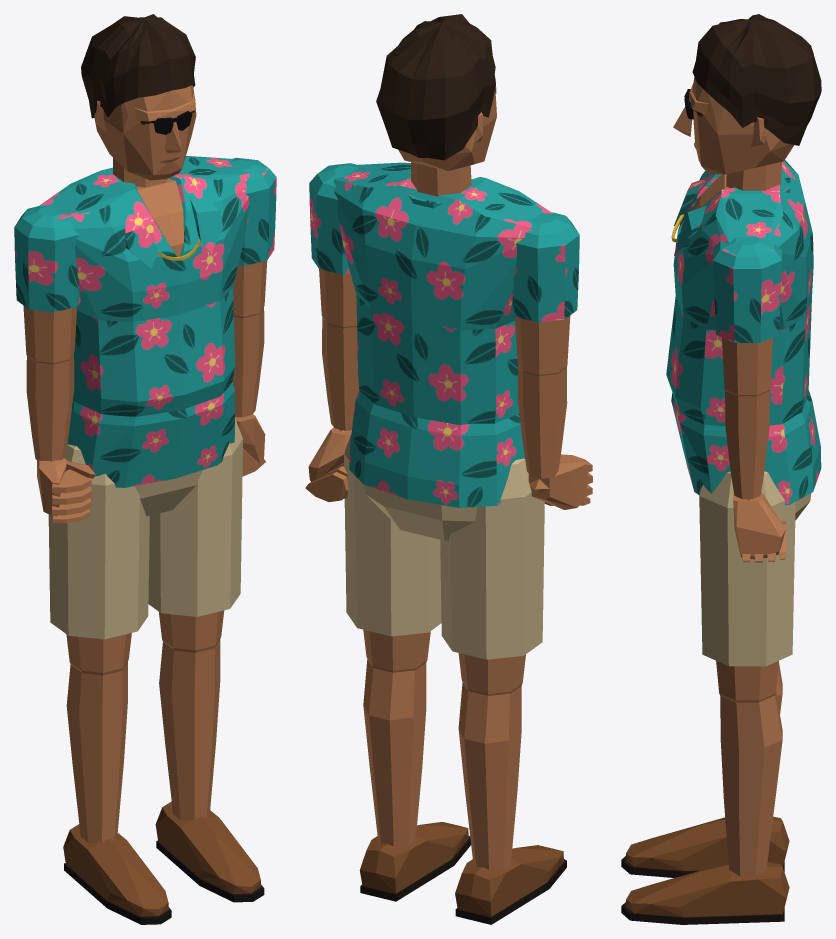
The model's file is kahuna.glb.
3 views of the same model, side by side, from view 1: azimuth 30°, elevation 25°; view 2: azimuth 150°, elevation 25°; view 3: azimuth 270°, elevation 25° (orthographic). The views are drawn at different scales.
Parts seen in each view (by area): view 1: chest_mesh, upperLegR_mesh, spine_mesh, head_mesh, upperLegL_mesh, hips_mesh, lowerLegL_mesh, lowerLegR_mesh, upperArmR_mesh, footR_mesh, footL_mesh, upperArmL_mesh (+5 smaller); view 2: chest_mesh, upperLegR_mesh, hips_mesh, spine_mesh, head_mesh, upperLegL_mesh, lowerLegL_mesh, lowerLegR_mesh, upperArmR_mesh, footR_mesh, footL_mesh, upperArmL_mesh (+5 smaller); view 3: head_mesh, upperLegL_mesh, chest_mesh, upperArmL_mesh, lowerLegL_mesh, spine_mesh, footL_mesh, hips_mesh, footR_mesh, lowerArmL_mesh, handL_mesh, neck_mesh.
Boxes of the visible parts, x1,y1,x2,y2 form: chest_mesh: (37, 156, 251, 322); upperLegR_mesh: (48, 444, 149, 675); spine_mesh: (73, 287, 235, 416); head_mesh: (81, 14, 196, 180); upperLegL_mesh: (148, 419, 242, 652); hips_mesh: (67, 382, 234, 516); lowerLegL_mesh: (159, 639, 220, 820); lowerLegR_mesh: (66, 662, 127, 842); upperArmR_mesh: (14, 206, 80, 364); footR_mesh: (63, 824, 171, 924); footL_mesh: (155, 801, 264, 902); upperArmL_mesh: (229, 157, 276, 317); chest_mesh: (333, 162, 553, 330); upperLegR_mesh: (440, 458, 544, 695); hips_mesh: (349, 390, 524, 540); spine_mesh: (356, 295, 519, 425); head_mesh: (376, 14, 496, 170); upperLegL_mesh: (344, 434, 441, 672); lowerLegL_mesh: (363, 659, 426, 846); lowerLegR_mesh: (458, 682, 521, 869); upperArmR_mesh: (511, 212, 579, 376); footR_mesh: (455, 845, 566, 924); footL_mesh: (359, 822, 470, 901); upperArmL_mesh: (309, 163, 357, 328); head_mesh: (673, 14, 821, 174); upperLegL_mesh: (699, 471, 795, 702); chest_mesh: (671, 160, 813, 330); upperArmL_mesh: (713, 237, 781, 396); lowerLegL_mesh: (720, 692, 782, 876); spine_mesh: (666, 296, 811, 426); footL_mesh: (621, 862, 789, 924); hips_mesh: (671, 390, 821, 520); footR_mesh: (621, 816, 789, 877); lowerArmL_mesh: (725, 391, 769, 499); handL_mesh: (733, 492, 786, 562); neck_mesh: (726, 162, 790, 193).
Bounding box in the file's own units: 0.5701 × 1.86 × 0.3879.
Materials: 10 (1 with a texture image).
